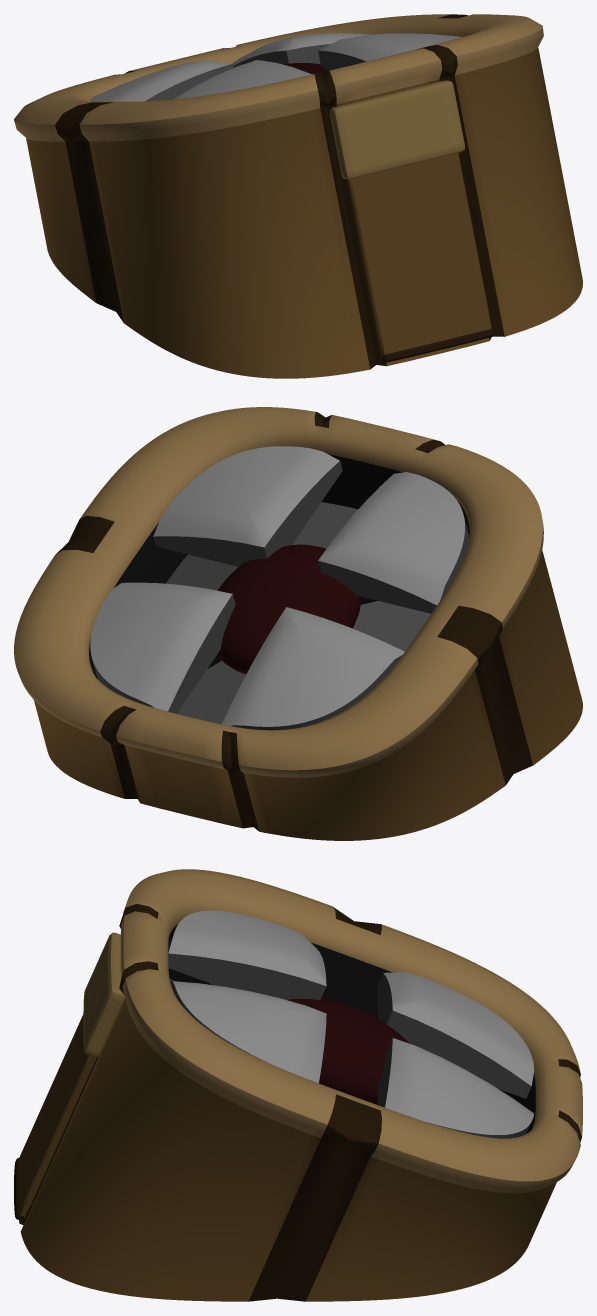
File: eye_tub_195.glb
3 renders of one model, top to bottom at view 1: azimuth 30°, elevation 25°; view 2: azimuth 150°, elevation 25°; view 3: azimuth 270°, elevation 25°, orthographic. The views are drawn at different scales.
Parts seen in each view (by area): view 1: tub, shutter, band, petal1, petal3, petal2, petal0, shutter_lip; view 2: tub, petal3, petal2, petal0, petal1, eye, housing1, housing0, housing3, housing2; view 3: tub, petal1, petal2, petal0, petal3, eye, shutter, band.
Part boxes in pixels (x1,y1,x2,y2): tub: (14,14,582,378); shutter: (347,153,491,358); band: (329,80,464,179); petal1: (90,60,233,101); petal3: (318,33,461,70); petal2: (173,60,312,99); petal0: (232,33,371,67); shutter_lip: (381,328,493,362); tub: (14,407,582,840); petal3: (153,446,342,566); petal2: (318,472,469,613); petal0: (90,582,235,713); petal1: (222,607,404,730); eye: (217,544,361,674); housing1: (177,661,246,724); housing0: (352,601,430,651); housing3: (292,502,377,604); housing2: (166,554,238,668); tub: (19,869,582,1301); petal1: (377,972,534,1098); petal2: (168,910,326,1000); petal0: (377,1038,534,1138); petal3: (170,981,326,1083); eye: (287,998,409,1104); shutter: (18,1014,96,1217); band: (83,932,124,1056).
Bounding box in the file's own units: 21.26 × 11.98 × 23.72.
